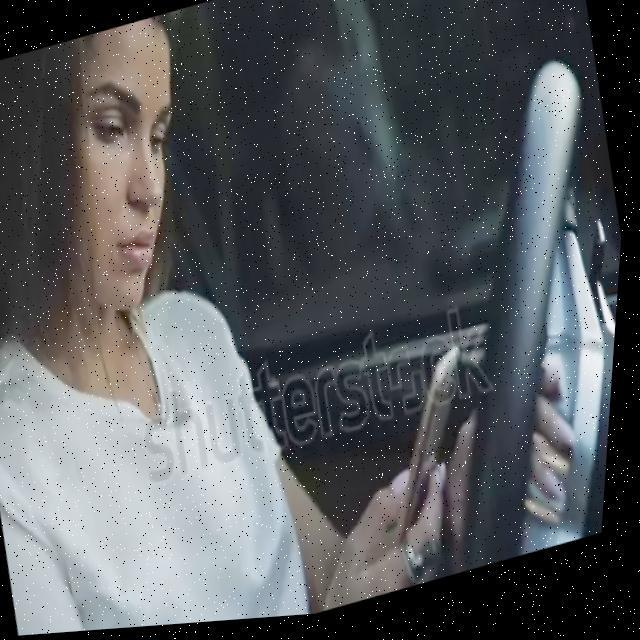PhoneCall: (366, 344, 509, 562)
